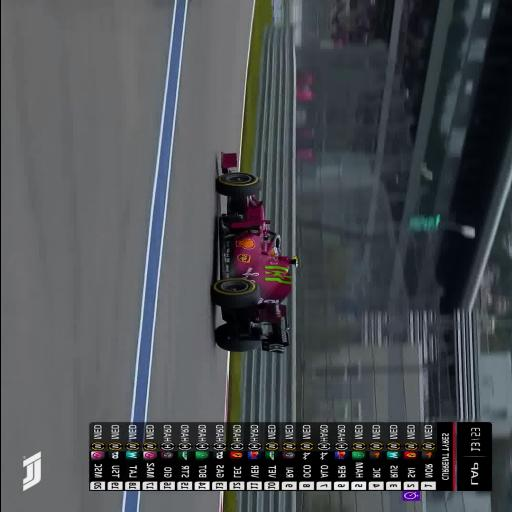f1_car: (211, 154, 297, 353)
